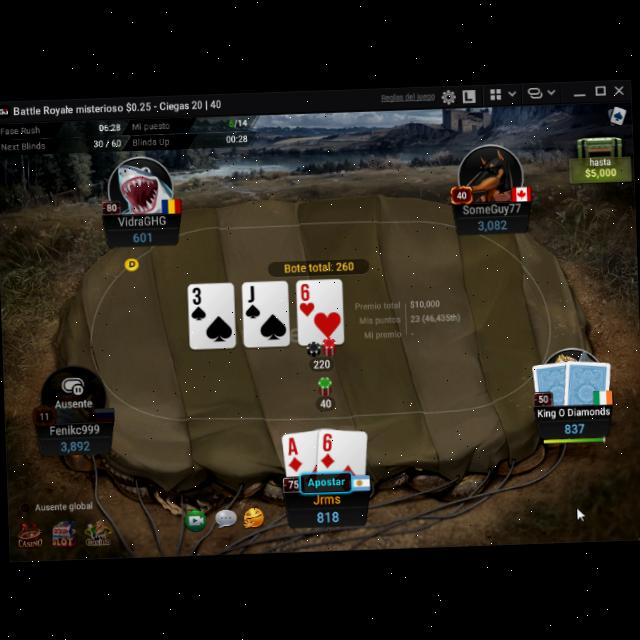3s: (189, 282, 208, 320)
6d: (318, 428, 336, 468)
6h: (297, 279, 315, 316)
Ad: (286, 432, 304, 472)
Js: (243, 281, 261, 318)
bet_text: (312, 354, 331, 368), (319, 394, 333, 406)
card_back: (561, 352, 613, 404), (530, 356, 572, 404)
dealer: (122, 252, 140, 270)
pot_text: (282, 257, 356, 271)
stack_text: (59, 435, 90, 450), (476, 216, 507, 230), (314, 505, 341, 521), (563, 416, 585, 432), (132, 226, 152, 240)
